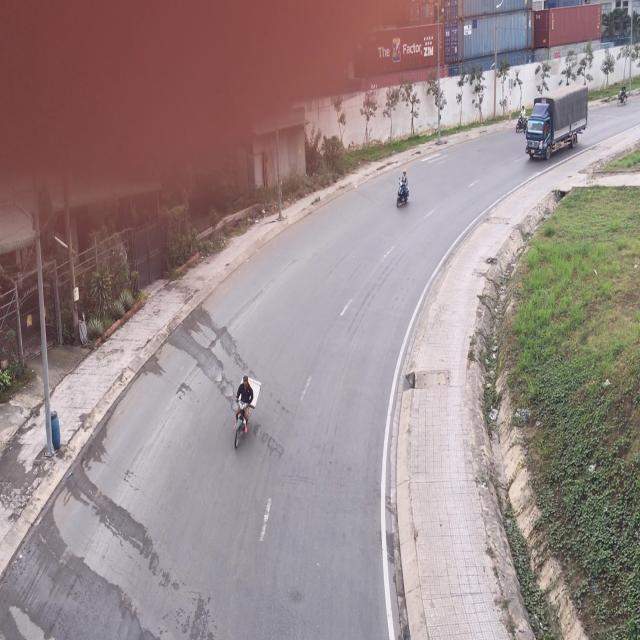motorbike: (233, 376, 256, 454), (395, 166, 410, 209), (516, 106, 527, 134)
truck: (526, 88, 588, 162)
